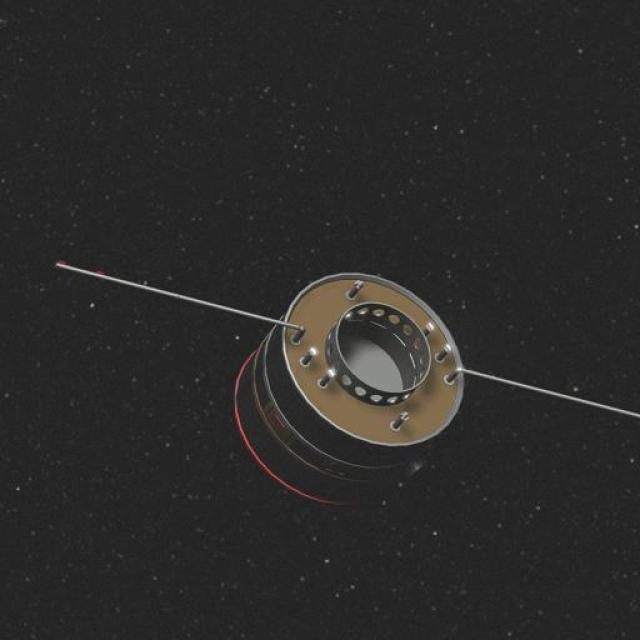double_start: (219, 242, 506, 517)
